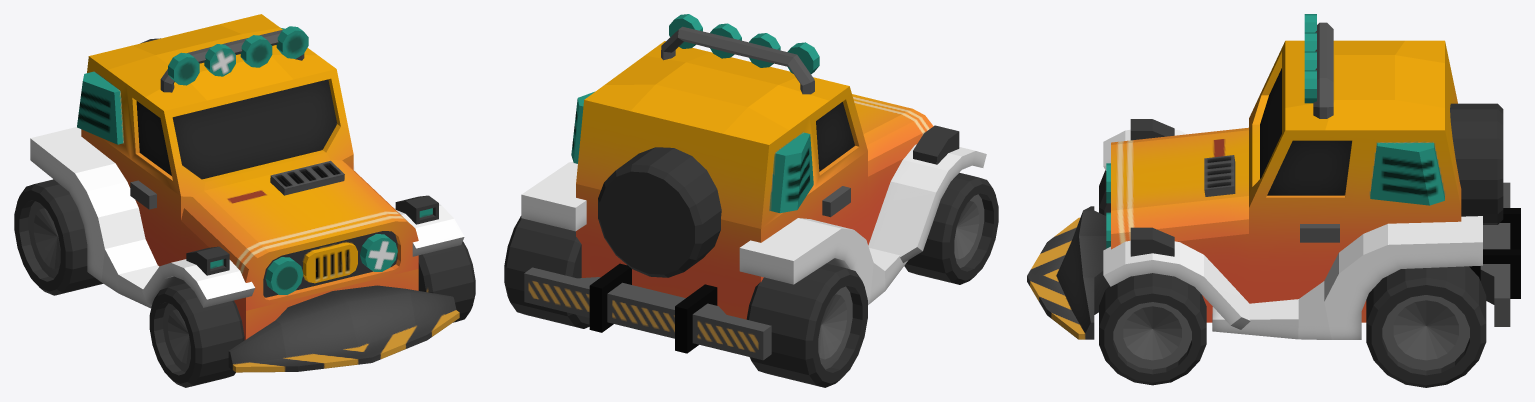
Rendered from tiny-racer-2.glb.
3 renders of one model, left to right at view 1: azimuth 30°, elevation 25°; view 2: azimuth 150°, elevation 25°; view 3: azimuth 270°, elevation 25°, orthographic. The views are drawn at different scales.
Visible parts, largest first — view 1: Cube.182, Cube.178, Cylinder.208, wheel_3, wheel_2, Cylinder.209, Cylinder.211, wheel_1, Cube.177, Cylinder.001, Cylinder.205, Circle.018 (+1 smaller); view 2: Cube.182, Cylinder.210, wheel_2, Cylinder.208, Cube.180, Cylinder.209, wheel_3, wheel_0, Cube.181, Circle.018, Cylinder.211, Cube.179; view 3: Cube.182, Cylinder.208, wheel_0, wheel_1, Cylinder.209, Cube.178, Cylinder.210, Cube.180, Circle.018, Cube.181, Cube.177, Cylinder.211 (+1 smaller).
Part boxes in pixels (box(x1,y1,x2,y2)): Cube.182: box(77, 14, 418, 339); Cube.178: box(228, 285, 459, 372); Cylinder.208: box(30, 127, 355, 308); wheel_3: box(149, 283, 244, 387); wheel_2: box(14, 179, 103, 295); Cylinder.209: box(142, 195, 464, 307); Cylinder.211: box(168, 26, 308, 85); wheel_1: box(418, 241, 475, 322); Cube.177: box(270, 160, 344, 195); Cylinder.001: box(265, 257, 303, 294); Cylinder.205: box(360, 234, 397, 271); Circle.018: box(160, 29, 304, 92); Cube.182: box(571, 41, 933, 319); Cylinder.210: box(598, 147, 721, 277); wheel_2: box(746, 263, 867, 387); Cylinder.208: box(521, 162, 908, 304); Cube.180: box(524, 267, 771, 360); Cylinder.209: box(868, 125, 986, 262); wheel_3: box(904, 172, 998, 284); wheel_0: box(504, 216, 589, 328); Cube.181: box(589, 263, 717, 353); Circle.018: box(661, 26, 814, 94); Cylinder.211: box(669, 14, 819, 74); Cube.179: box(822, 186, 850, 217); Cube.182: box(1111, 40, 1461, 322); Cylinder.208: box(1212, 216, 1482, 339); wheel_0: box(1366, 266, 1486, 387); wheel_1: box(1099, 273, 1206, 385); Cylinder.209: box(1103, 119, 1250, 329); Cube.178: box(1027, 206, 1109, 339); Cylinder.210: box(1450, 103, 1503, 224); Cube.180: box(1480, 182, 1510, 326); Circle.018: box(1313, 22, 1333, 118); Cube.181: box(1469, 208, 1520, 298); Cube.177: box(1204, 155, 1235, 196); Cylinder.211: box(1304, 14, 1316, 103).
Bounding box in the file's own units: 1.02 × 0.863 × 1.42.
1 material, 1 textured.
